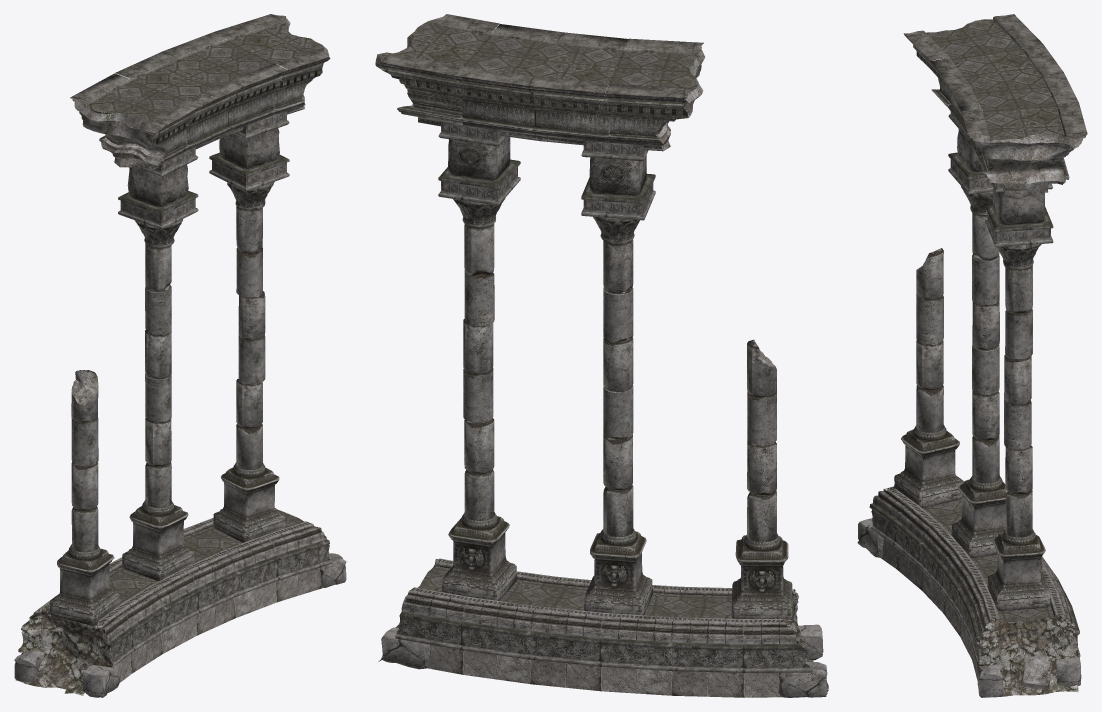
File: eso_ss4_column1-transformed.glb
3 renders of one model, left to right at view 1: azimuth 30°, elevation 25°; view 2: azimuth 150°, elevation 25°; view 3: azimuth 270°, elevation 25°, orthographic. The views are drawn at different scales.
Parts seen in each view (by area): view 1: default; view 2: default; view 3: default.
Boxes of the visible parts, x1,y1,x2,y2 form: default: (14, 14, 346, 697); default: (375, 14, 828, 697); default: (857, 14, 1087, 697).
Bounding box in the file's own units: 22.86 × 33.69 × 12.63.
7 materials, 7 textured.
